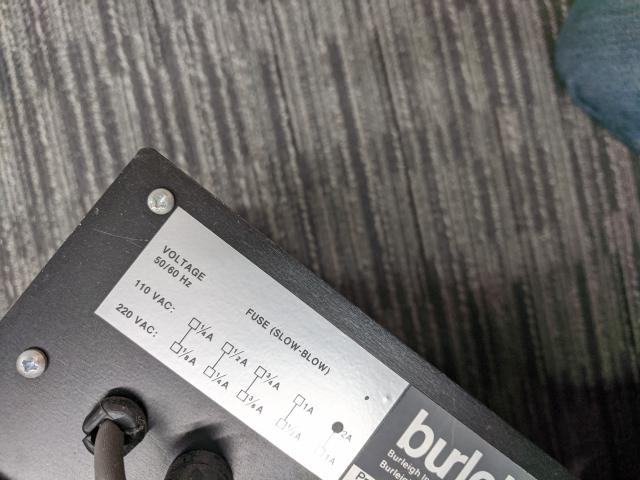CRS: (15, 350, 50, 378), (146, 187, 176, 215)
